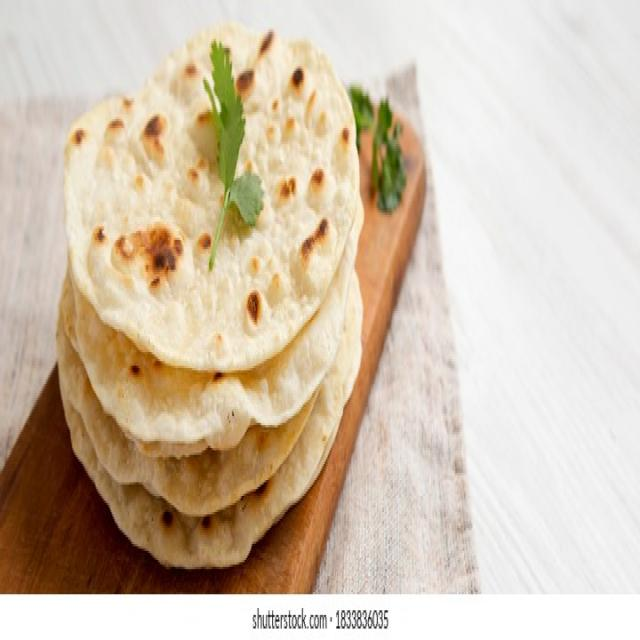ROTI: (66, 25, 360, 368)
